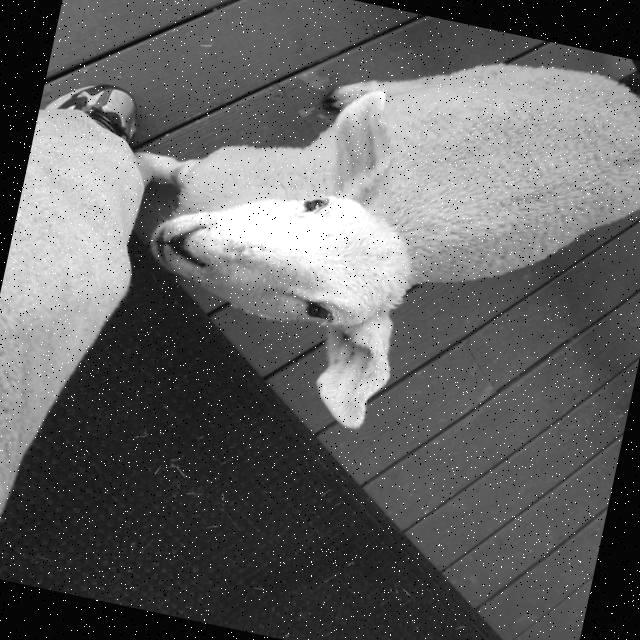sheep: (141, 62, 640, 429)
